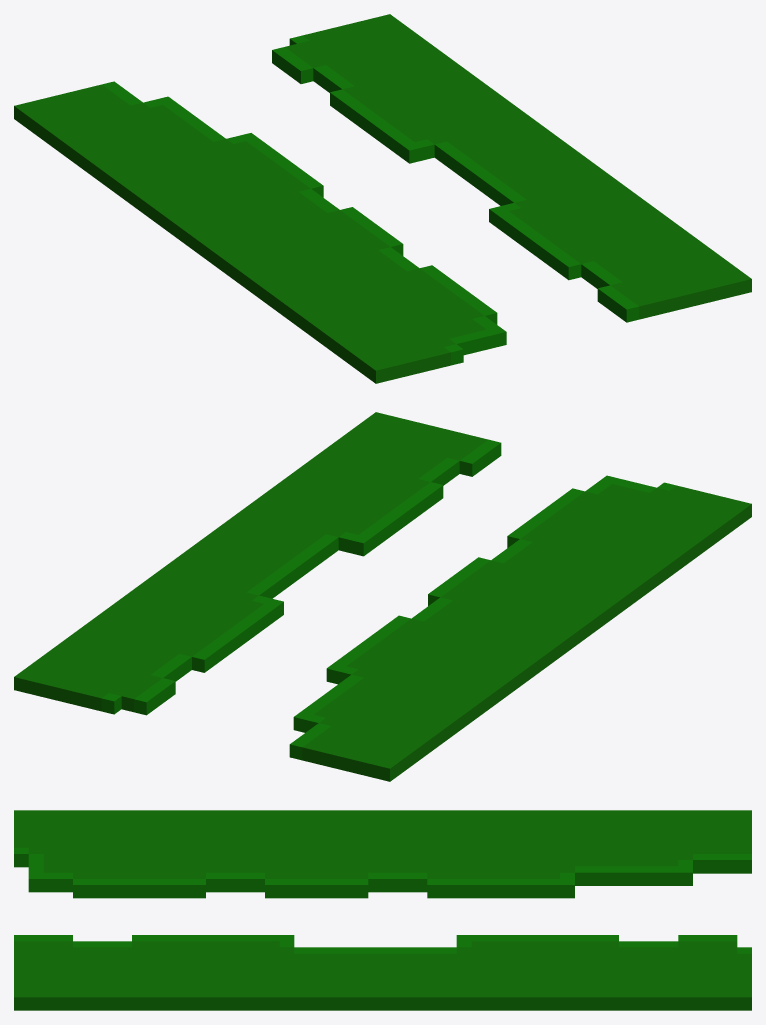
The model's file is ForestTraversal.obj.
The picture shows the model from 3 angles, top to bottom: view 1: azimuth 30°, elevation 25°; view 2: azimuth 150°, elevation 25°; view 3: azimuth 270°, elevation 25°; orthographic projection.
Size of the model in its own units: 3 by 0.1 by 5.
Materials: 1 (1 with a texture image).
